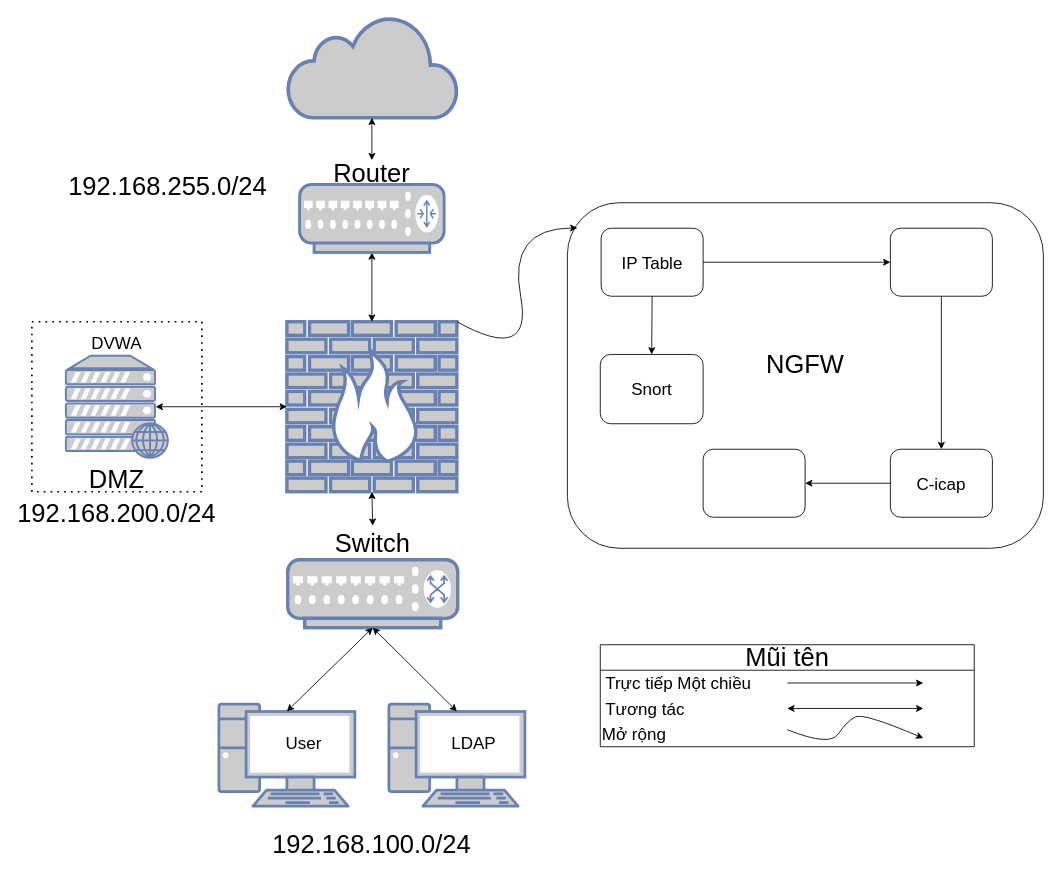
The diagram is 1058 pixels wide and 874 high, and some of its shapes have lost their labels. The centre of each missing label's shape, as x and y in pixels:
ClamAV: point (753, 482)
Internet: point (372, 66)
Squid: point (941, 261)
